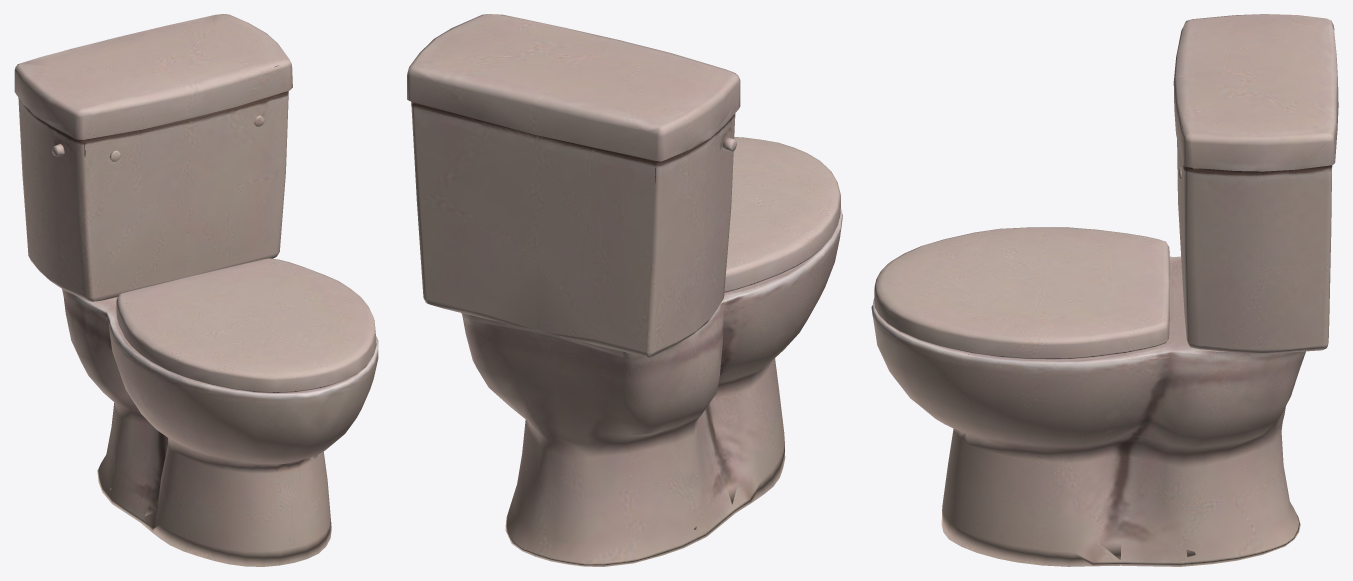
The model's file is bathroom_toilet.glb.
3 views of the same model, side by side, from view 1: azimuth 30°, elevation 25°; view 2: azimuth 150°, elevation 25°; view 3: azimuth 270°, elevation 25° (orthographic). The views are drawn at different scales.
Visible parts, largest first — view 1: geometry_0; view 2: geometry_0; view 3: geometry_0.
Part boxes in pixels (<box>): geometry_0: <box>14,14,378,566</box>; geometry_0: <box>407,14,842,566</box>; geometry_0: <box>871,14,1338,566</box>.
Size of the model in its own units: 0.6126 by 1 by 0.9375.
Materials: 1 (1 with a texture image).
